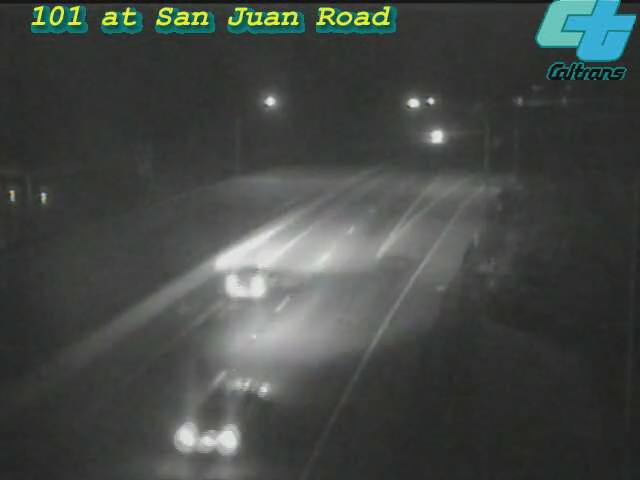vehicle: (168, 356, 278, 466), (209, 238, 289, 318), (411, 111, 461, 161)
